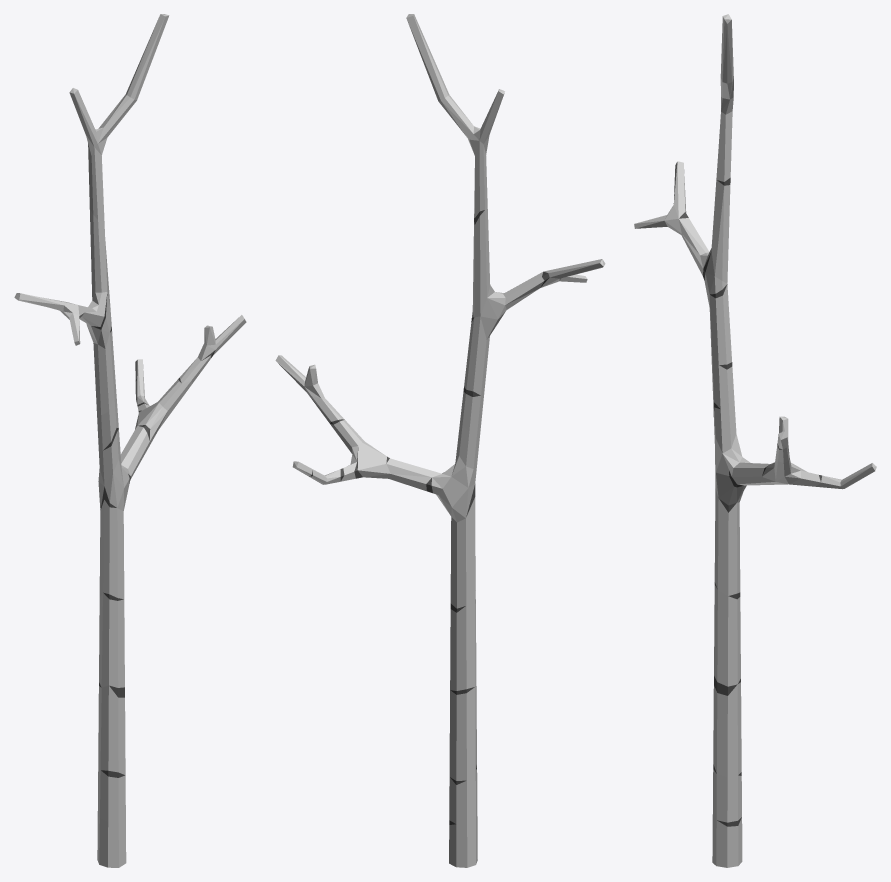
Rendered from mesh_tree_birch_03_dead.fbx.
3 renders of one model, left to right at view 1: azimuth 30°, elevation 25°; view 2: azimuth 150°, elevation 25°; view 3: azimuth 270°, elevation 25°, orthographic. The views are drawn at different scales.
Visible parts, largest first — view 1: mesh_tree_birch_03_dead_LOD0; view 2: mesh_tree_birch_03_dead_LOD0; view 3: mesh_tree_birch_03_dead_LOD0.
Boxes of the visible parts, x1,y1,x2,y2 form: mesh_tree_birch_03_dead_LOD0: [14, 14, 246, 867]; mesh_tree_birch_03_dead_LOD0: [275, 14, 605, 867]; mesh_tree_birch_03_dead_LOD0: [634, 14, 876, 867].
Size of what is drawn, in the model's own units: 2.21 by 6.31 by 1.59.
